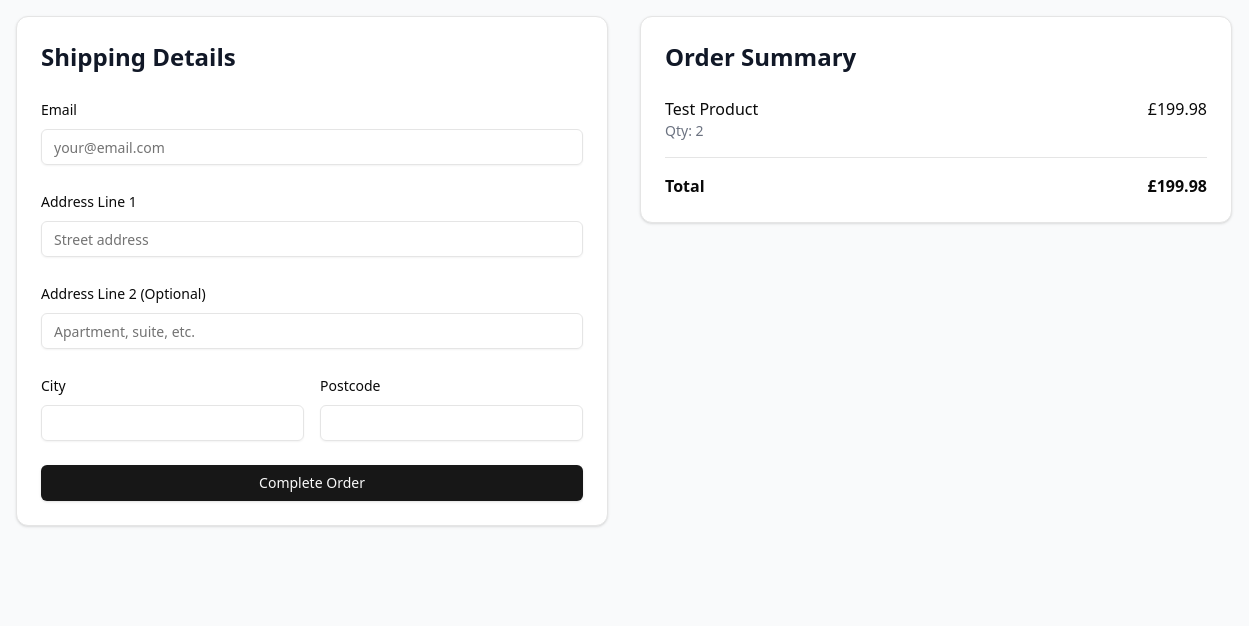
it: CheckoutPage › displays validation errors for required fields
This screenshot has width=1249, height=626.
Note: Submit empty form
Click the button "Complete Order": (312, 483) [41,465,583,501]
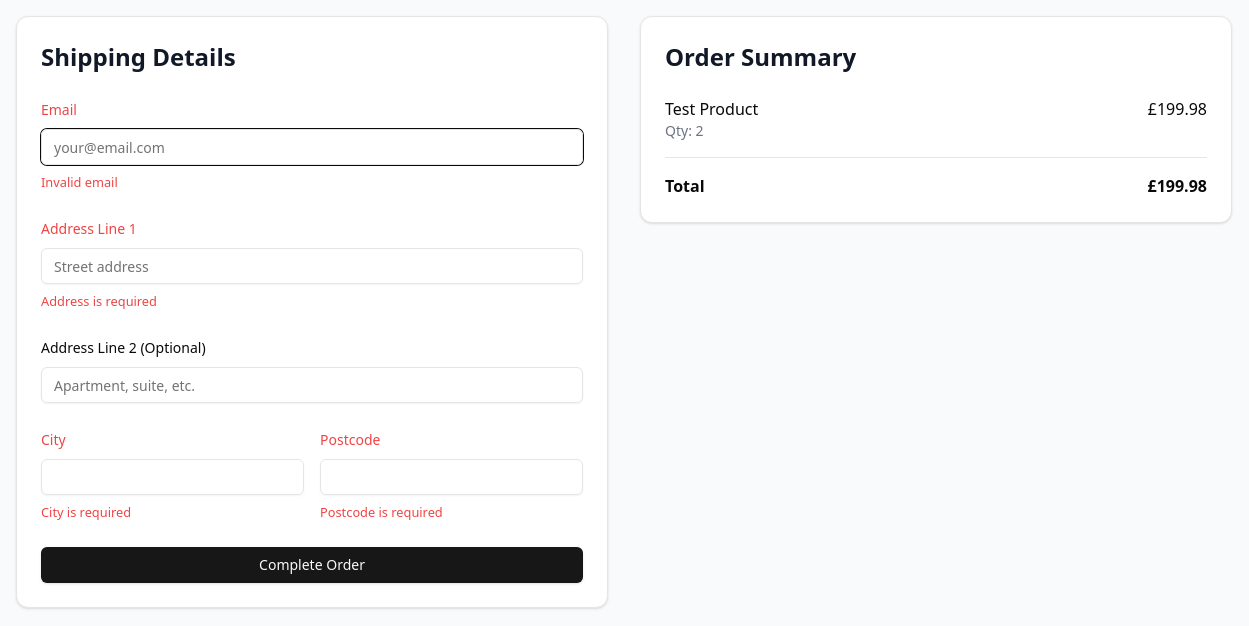
Result: the text "Address is required" is shown at [41,292,157,310]
Result: the text "City is required" is shown at [41,503,131,521]
Result: the text "Postcode is required" is shown at [320,503,443,521]
